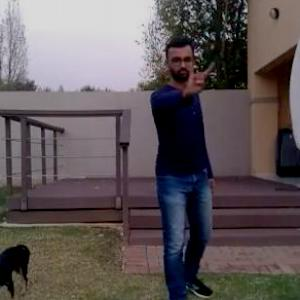takeoff-hand: (182, 52, 214, 92)
